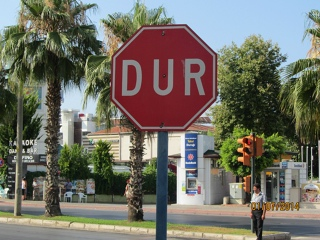dur: (114, 26, 223, 133)
yaya: (238, 176, 285, 239)
